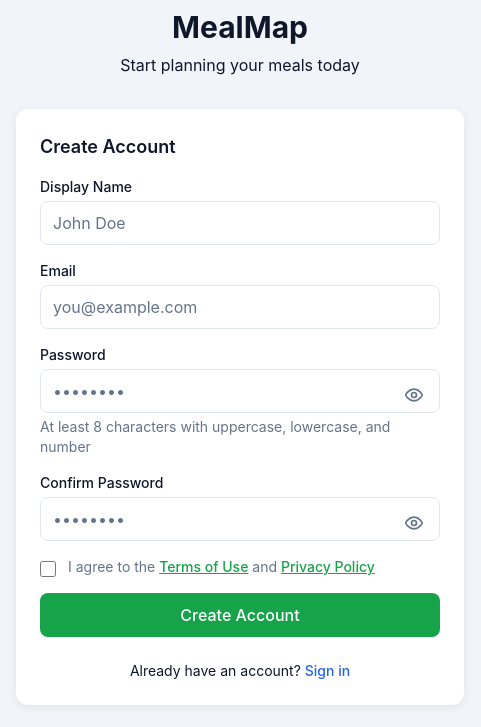
Test: RegisterPage › displays server error on registration failure
Type "Test User" into the field labelled "Display Name".
click(240, 223); type("Test User")  # box [40,201,440,245]
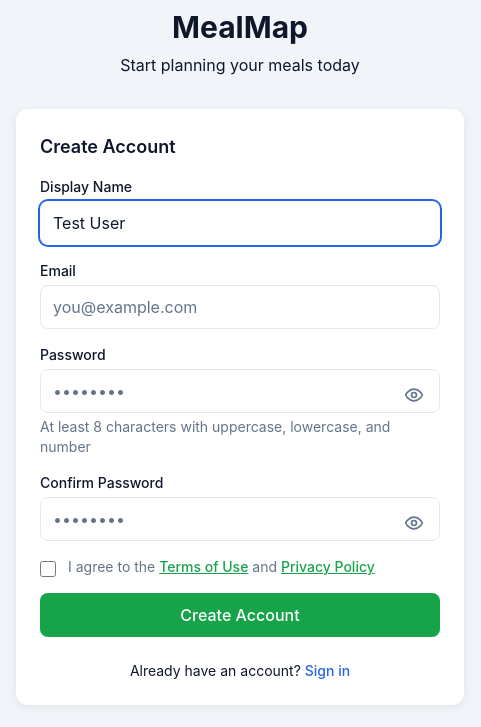
Type "existing@example.com" into the field labelled "Email".
click(240, 307); type("existing@example.com")  # box [40,285,440,329]
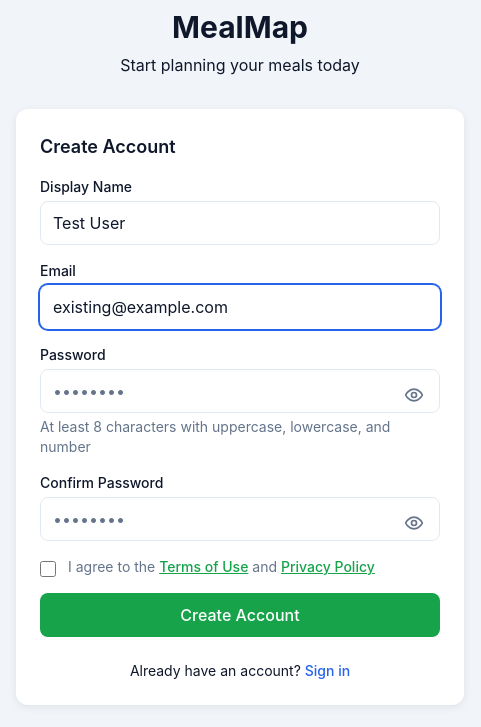
Type "Password123" into the password field labelled "Password".
click(240, 391); type("Password123")  # box [40,369,440,413]
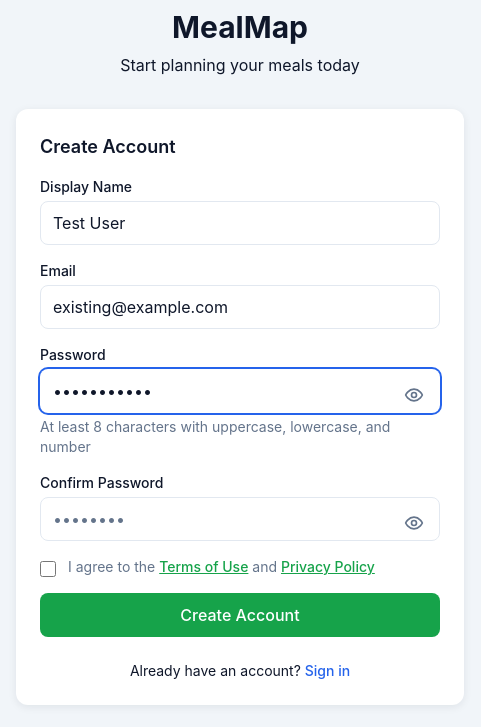
Type "Password123" into the password field labelled "Confirm Password".
click(240, 519); type("Password123")  # box [40,497,440,541]
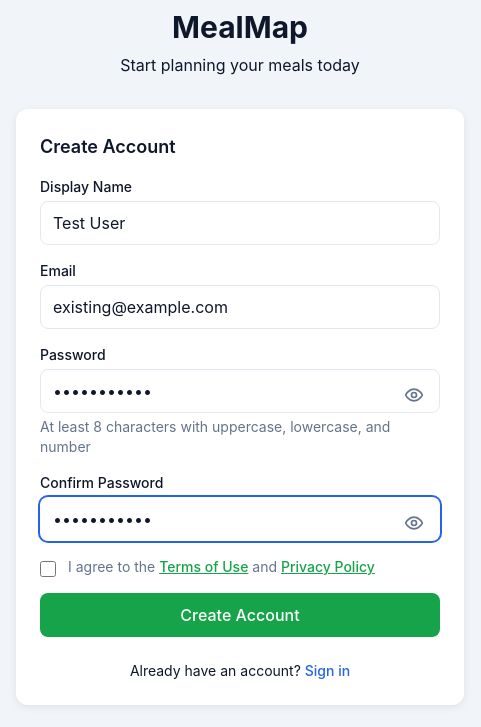
Click the checkbox labelled "I agree to the Terms of Use and Privacy Policy".
click(48, 569)  # box [40,561,56,577]
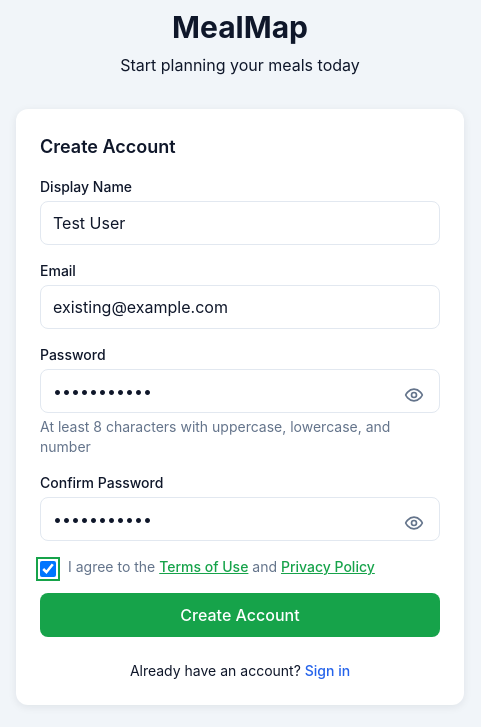
Click the button "Create Account".
click(240, 615)  # box [40,593,440,637]
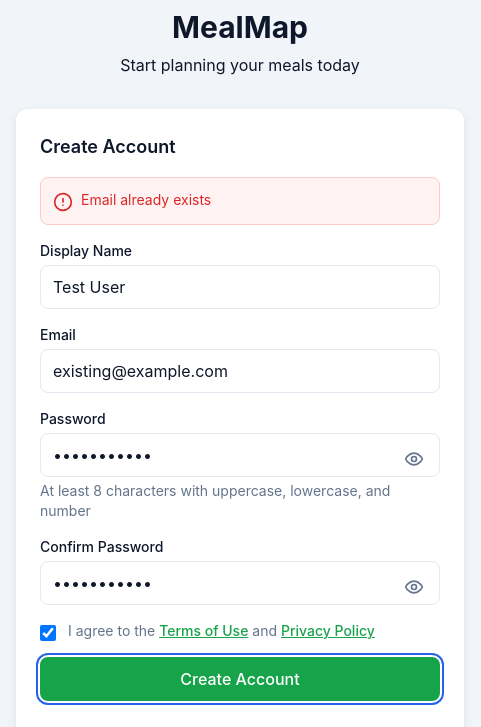
Now the message reads "Email already exists", box [81,191,211,208]
